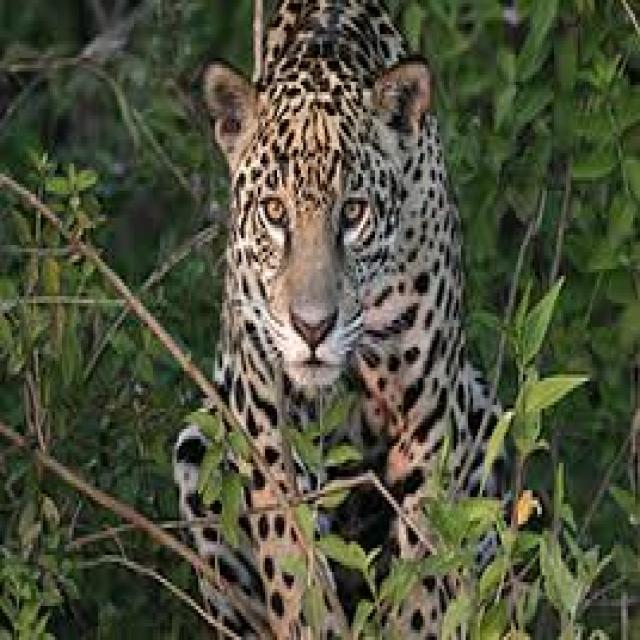Jaguar: (167, 3, 518, 640)
